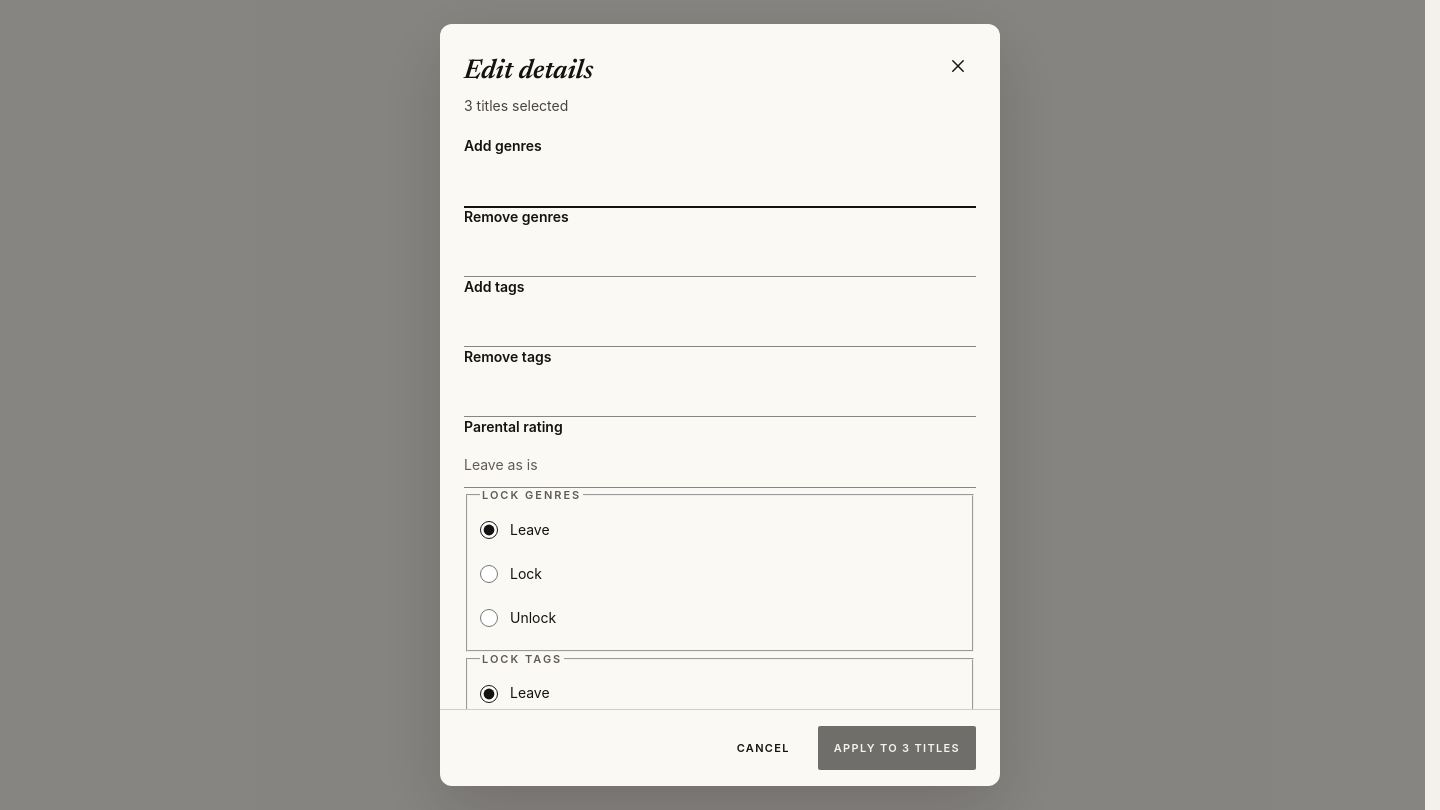
BulkEditDialog › disables Apply until something is chosen
Check: the heading "Edit details" is shown, box [464,56,593,87]
Check: the button "Apply to 3 titles" is disabled, box [818,726,976,770]
In the dropdown labelled "Add genres": (720, 185) [464,163,976,207], type "Noir"
Then press Enter
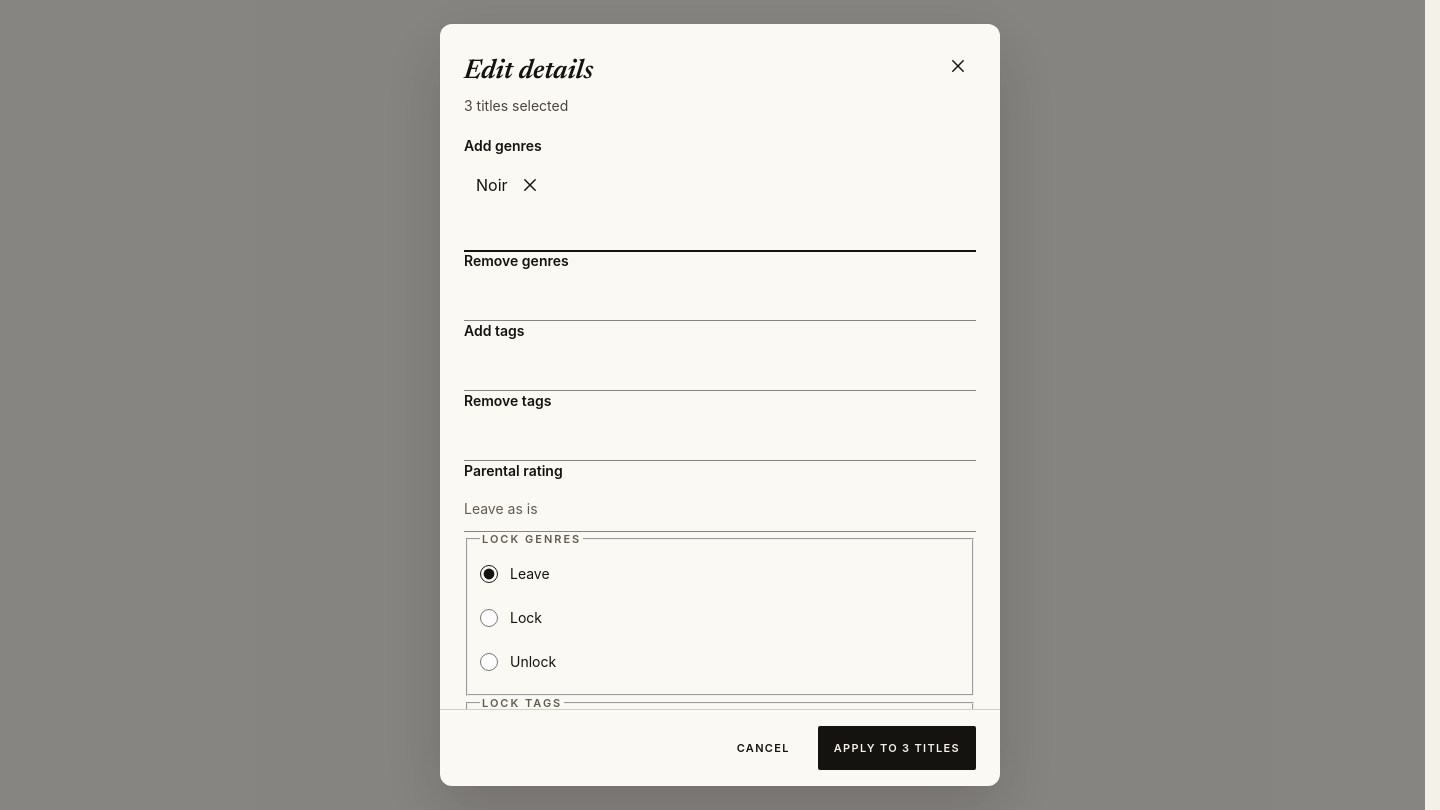
Check: the button "Apply to 3 titles" is enabled, box [818,726,976,770]
